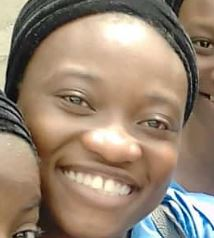without_facemask: (53, 126, 157, 221)
